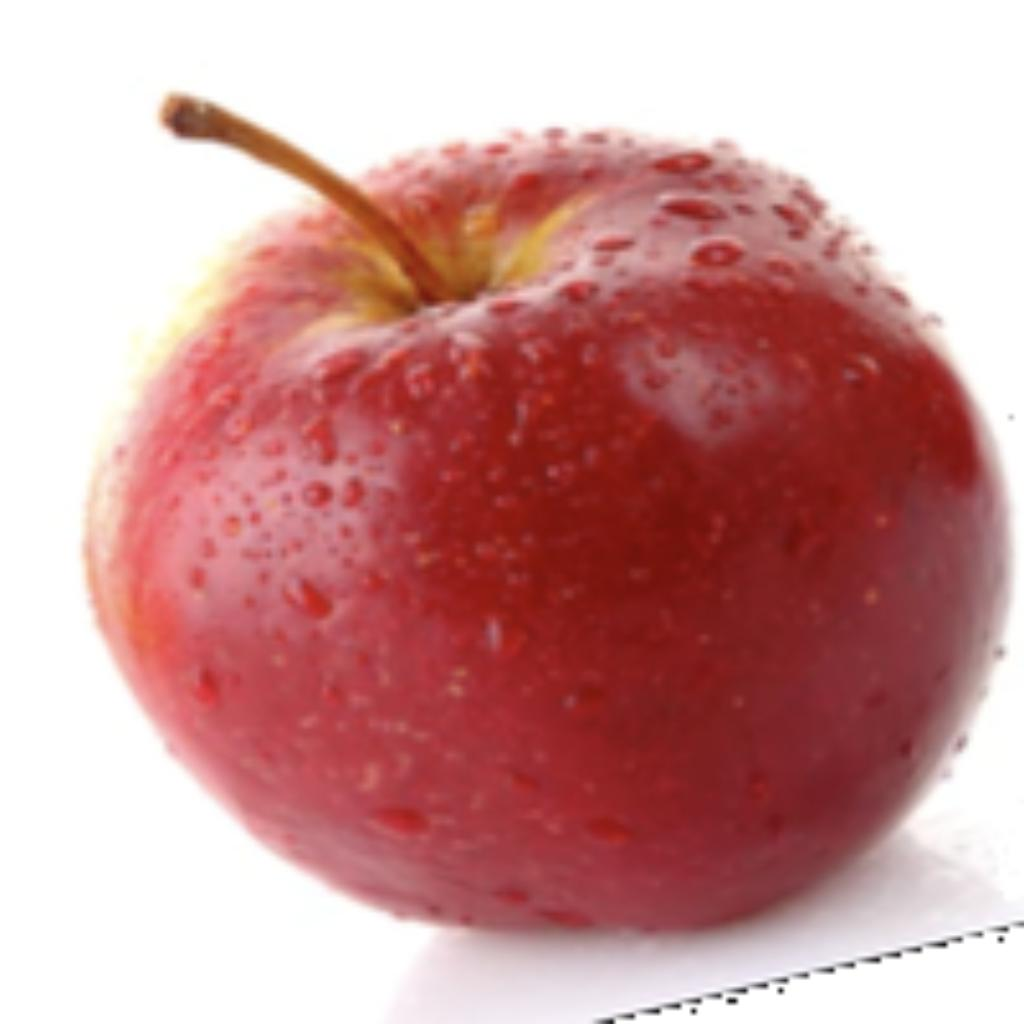apple: (72, 83, 1019, 1019)
